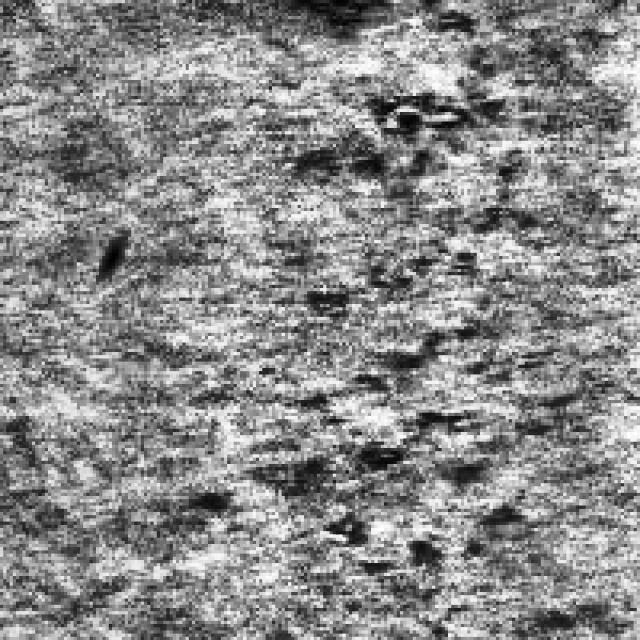Crazing: (266, 225, 556, 570), (262, 74, 518, 208)
